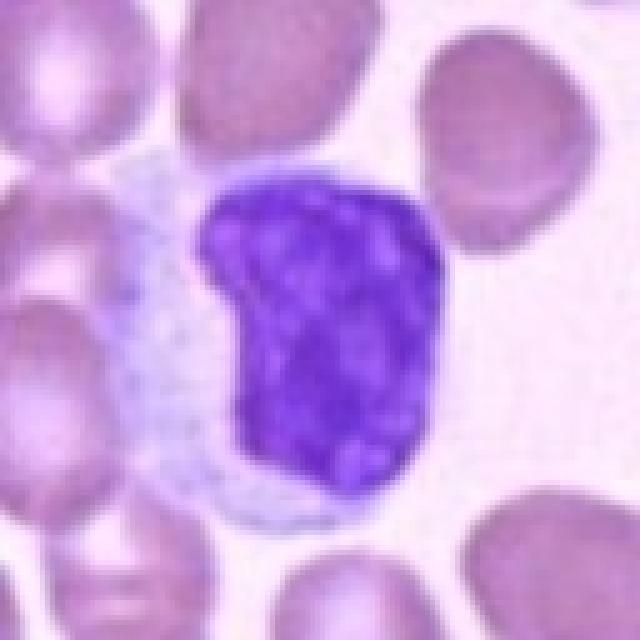lympho: (87, 121, 452, 534)
